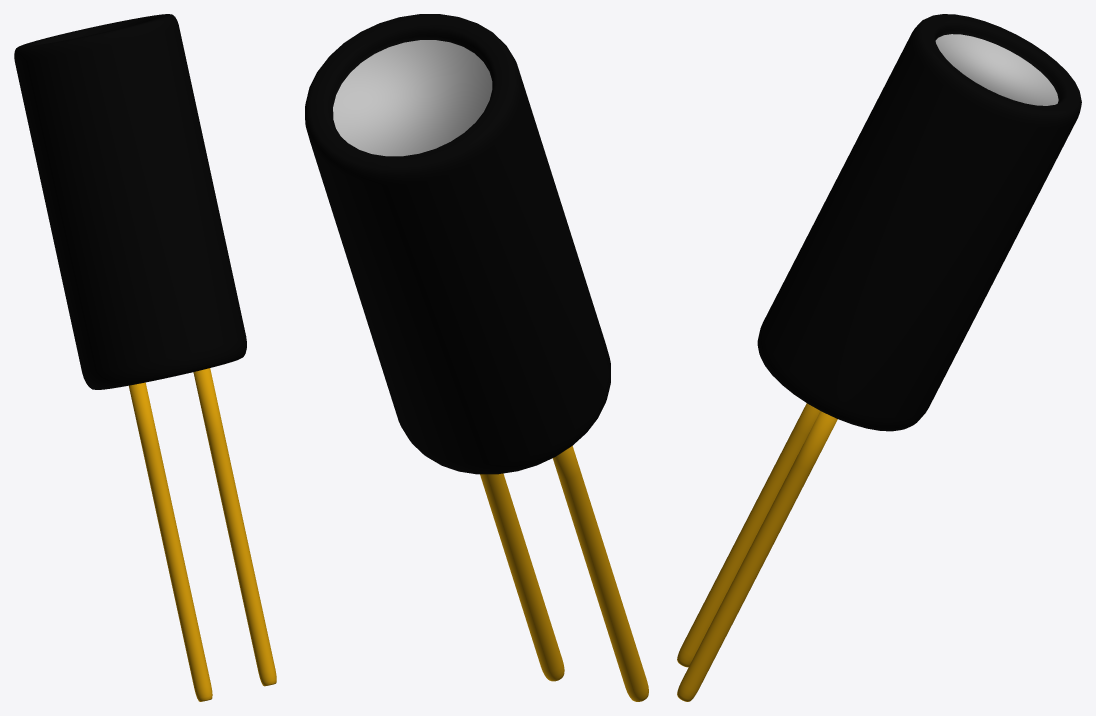
The model's file is 27. TILT BALL SWITCH.gltf.
3 views of the same model, side by side, from view 1: azimuth 30°, elevation 25°; view 2: azimuth 150°, elevation 25°; view 3: azimuth 270°, elevation 25° (orthographic). The views are drawn at different scales.
Visible parts, largest first — view 1: BALL SWITCH.001; view 2: BALL SWITCH.001; view 3: BALL SWITCH.001.
Boxes of the visible parts, left/top/right/bottom form: BALL SWITCH.001: left=14, top=14, right=276, bottom=701; BALL SWITCH.001: left=305, top=14, right=648, bottom=701; BALL SWITCH.001: left=677, top=14, right=1081, bottom=701.
Bounding box in the file's own units: 0.00832 × 0.0321 × 0.018.
